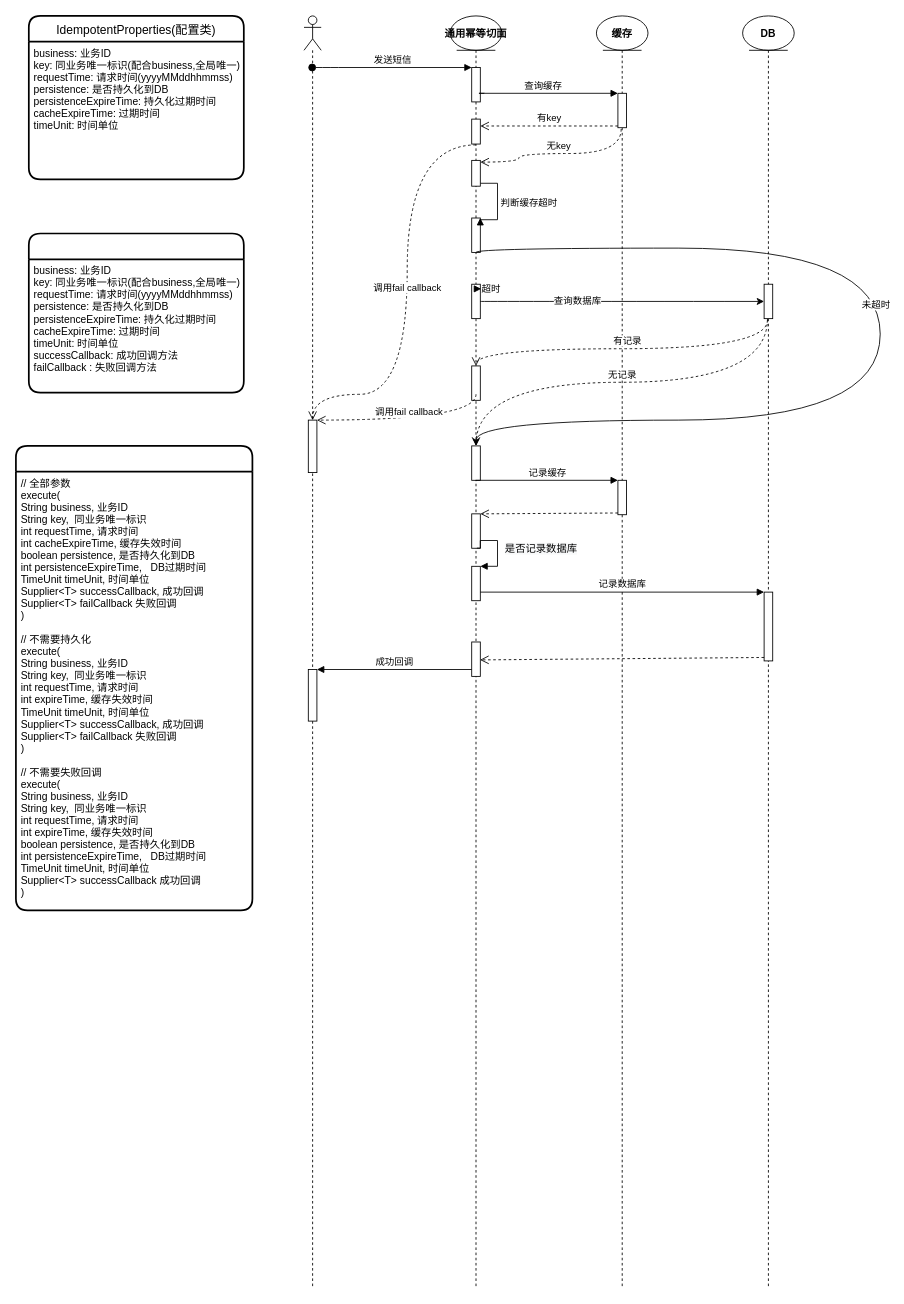
Image size: 904x1304. Some labels were removed from this diagram. The shapes that lost their labels are listed below. From the top down, each one's box as (x1, y1, x2, y2) in pixels, then its label:
(28, 232, 244, 393): @Idempotent(注解类)
(15, 445, 253, 911): Idempotent(接口类)
